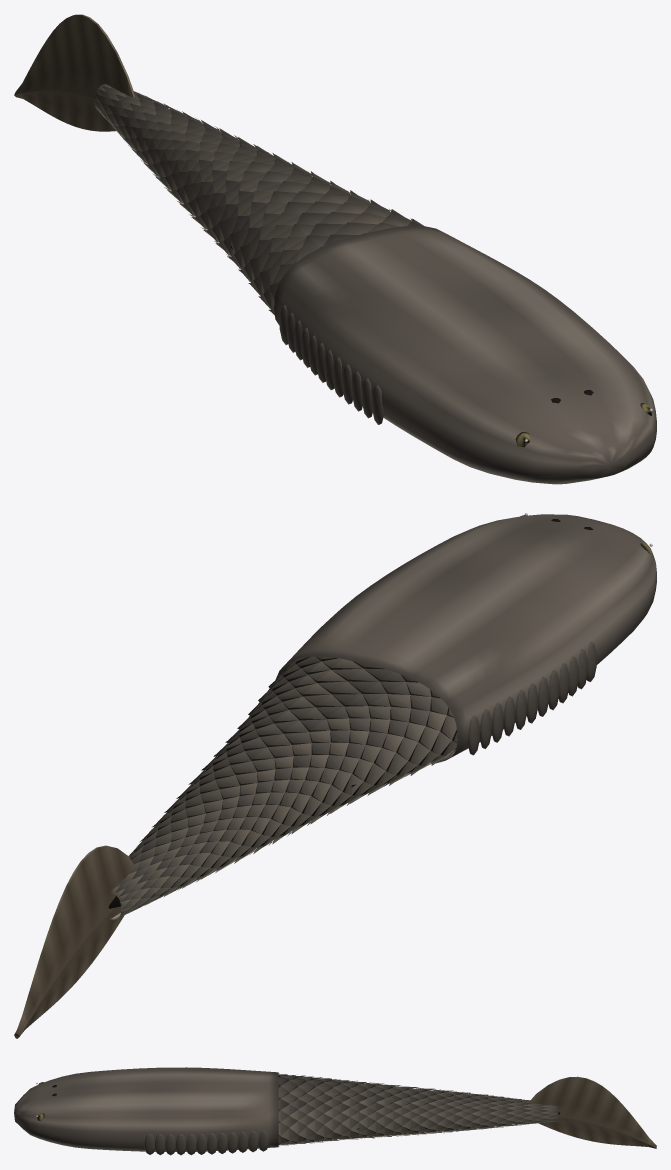
File: ArandaspisPrionotolepis.fbx
3 views of the same model, one above another, from view 1: azimuth 30°, elevation 25°; view 2: azimuth 150°, elevation 25°; view 3: azimuth 270°, elevation 25° (orthographic). The views are drawn at different scales.
Visible parts, largest first — view 1: ArandaspisPrionotolepis; view 2: ArandaspisPrionotolepis; view 3: ArandaspisPrionotolepis.
Boxes of the visible parts, x1=… form: ArandaspisPrionotolepis: x1=14, y1=14, x2=656, y2=484; ArandaspisPrionotolepis: x1=14, y1=513, x2=656, y2=1038; ArandaspisPrionotolepis: x1=14, y1=1067, x2=656, y2=1155.
Bounding box in the file's own units: 0.3665 × 0.2093 × 1.7.
